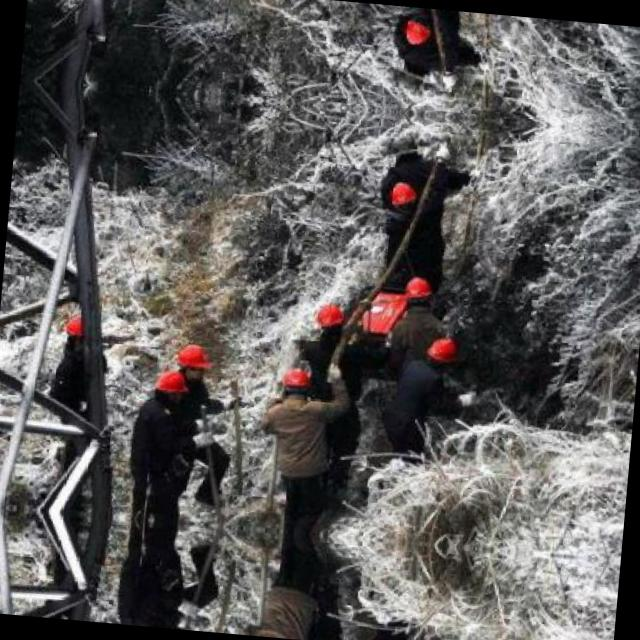helmet: (61, 303, 108, 354), (418, 332, 466, 379), (398, 6, 442, 52), (384, 173, 426, 219), (274, 361, 318, 404), (144, 368, 188, 410), (397, 272, 438, 311), (312, 296, 351, 336), (172, 342, 214, 378)
